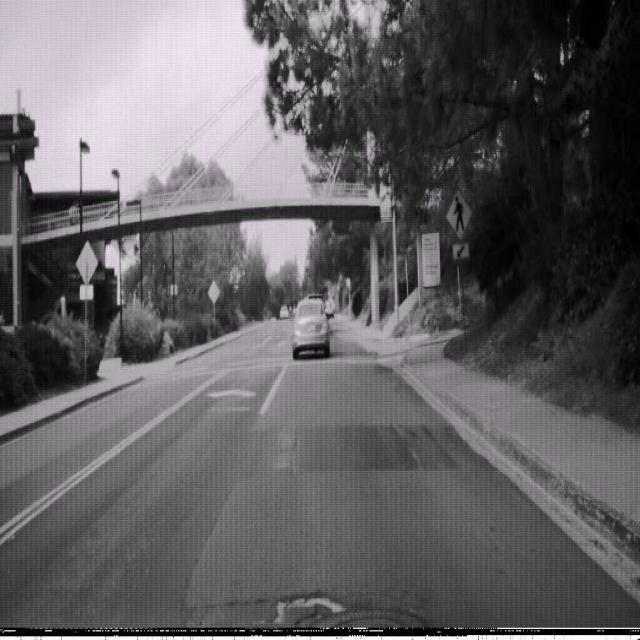pedestrianCrossing: (446, 186, 472, 242)
